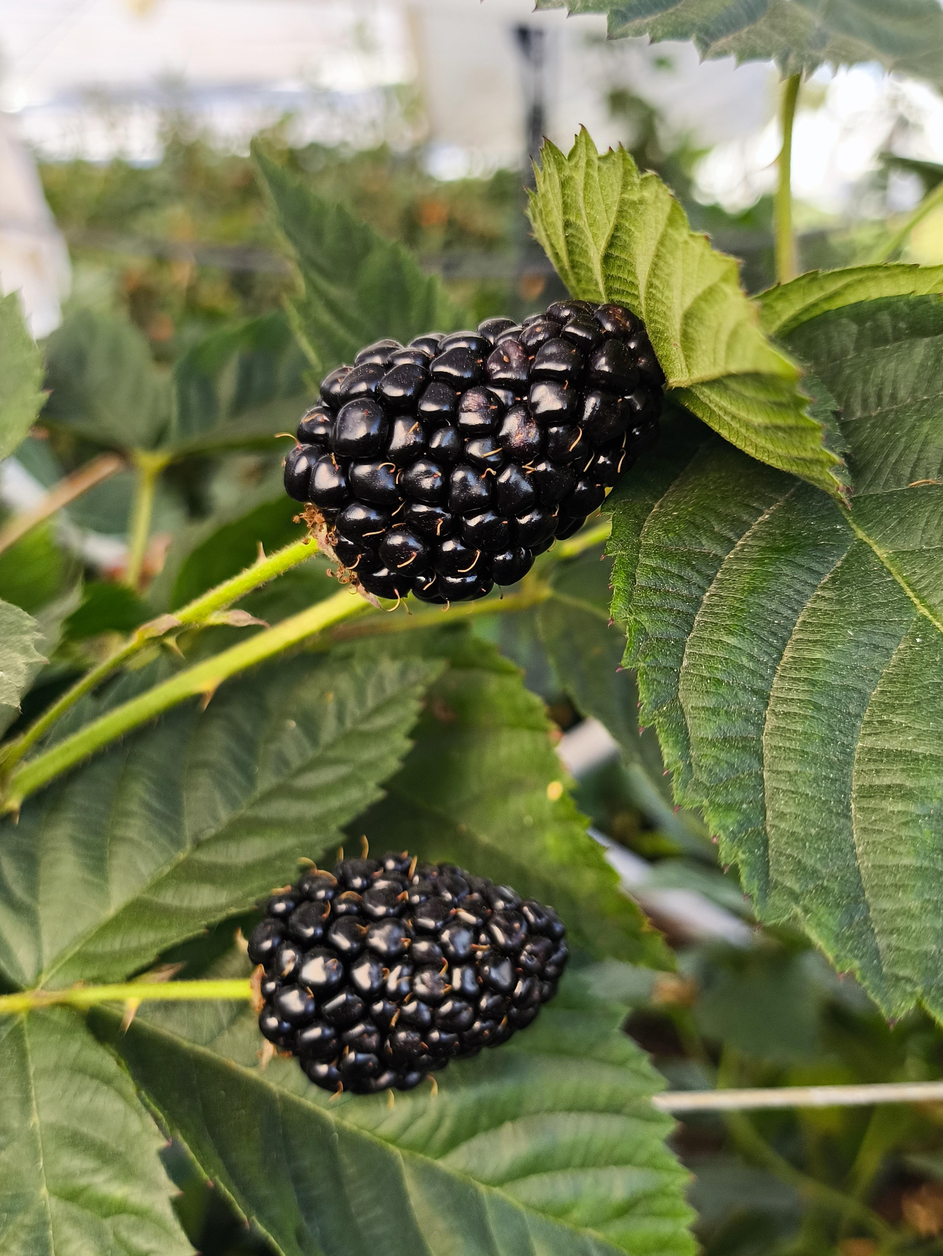maduro: (292, 304, 650, 595), (259, 853, 568, 1088)
